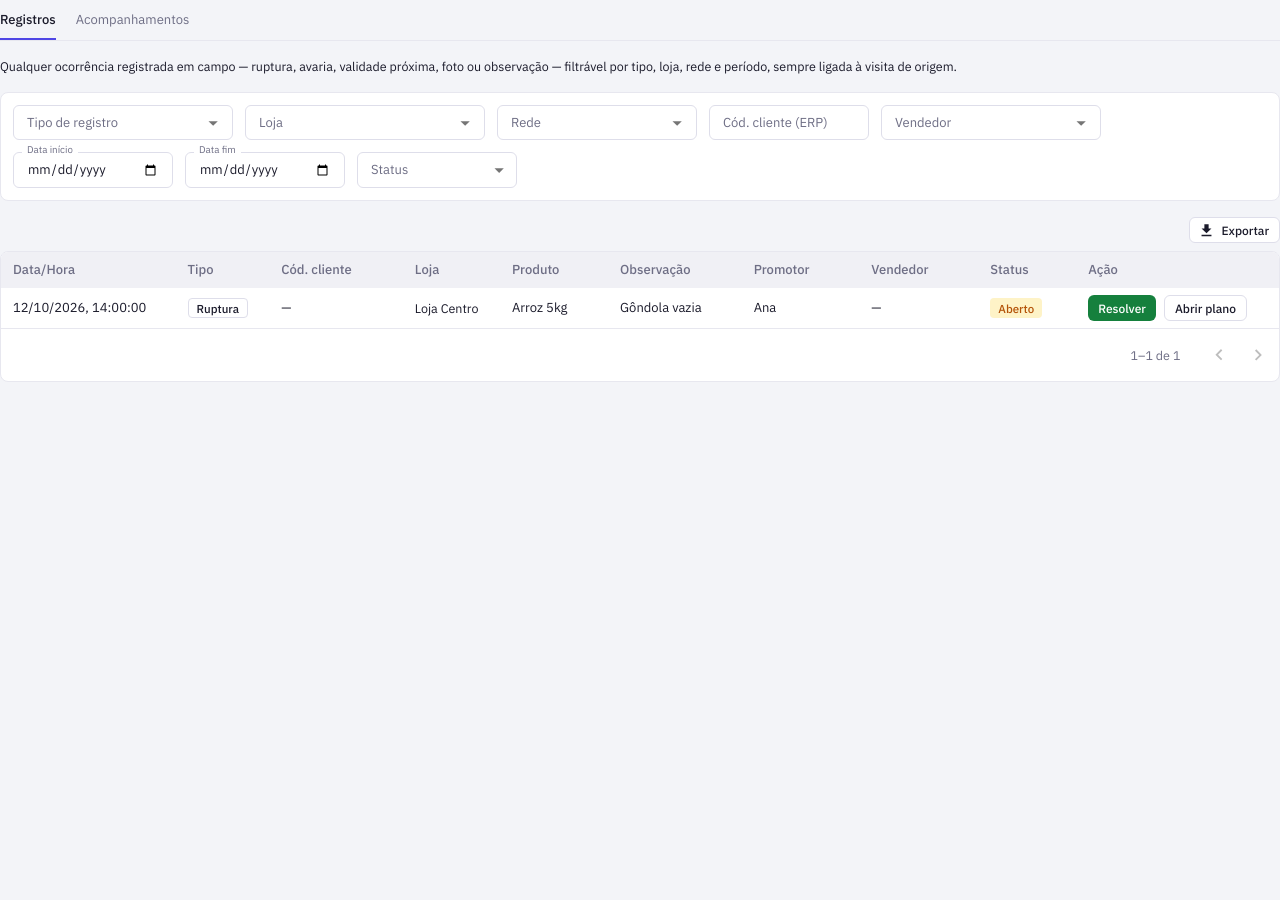
Test case: RegistrosListPage › clicar na linha abre o registro (não a visita) com Resolver e atalho pra visita
Click the text "Gôndola vazia".
click(675, 308)  # box [608,288,742,328]
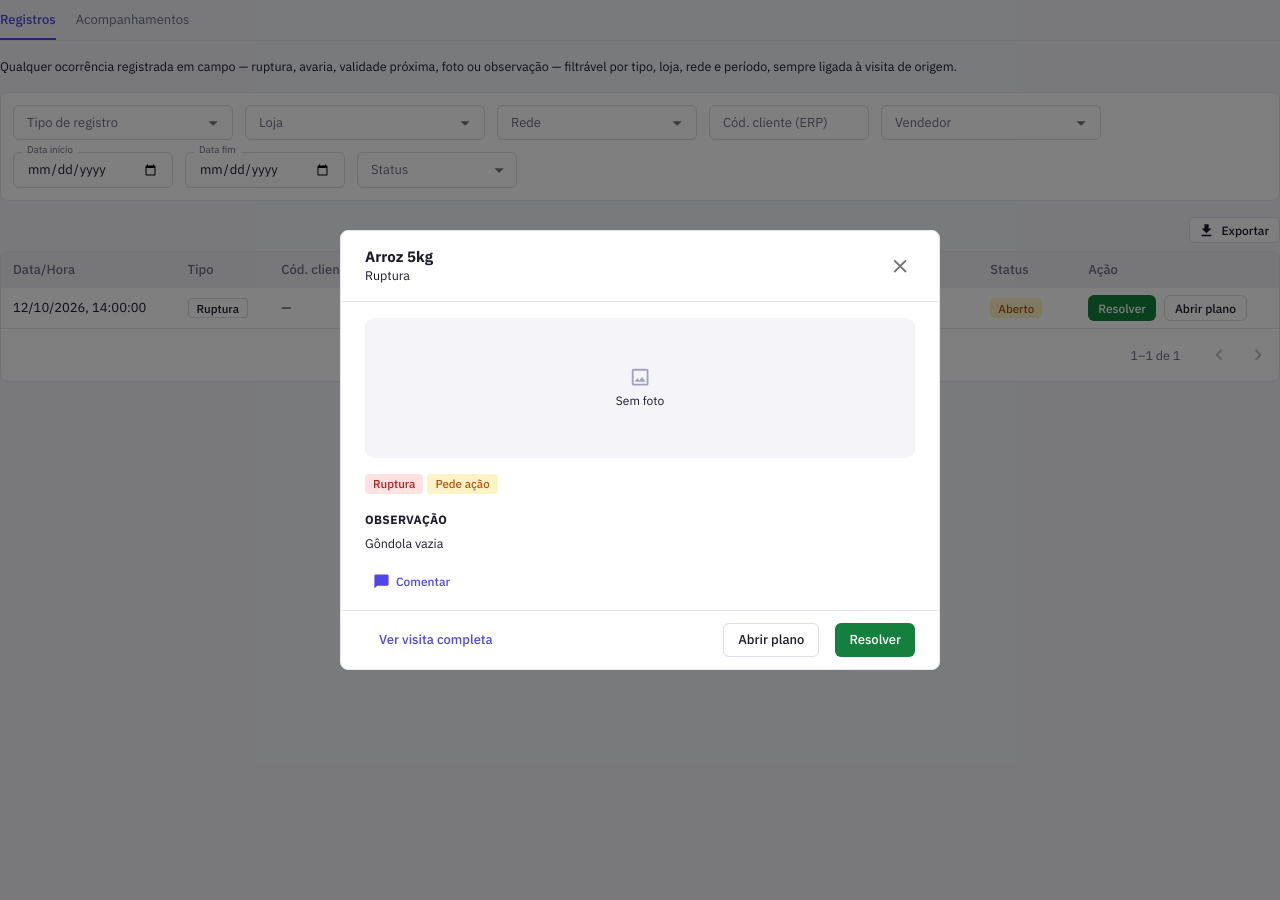
Expected: the dialog is shown, [340,230,940,670]
Expected: the text "Pede ação" is shown, [435,476,490,491]
Expected: the button "Resolver" is shown, [835,623,915,657]
